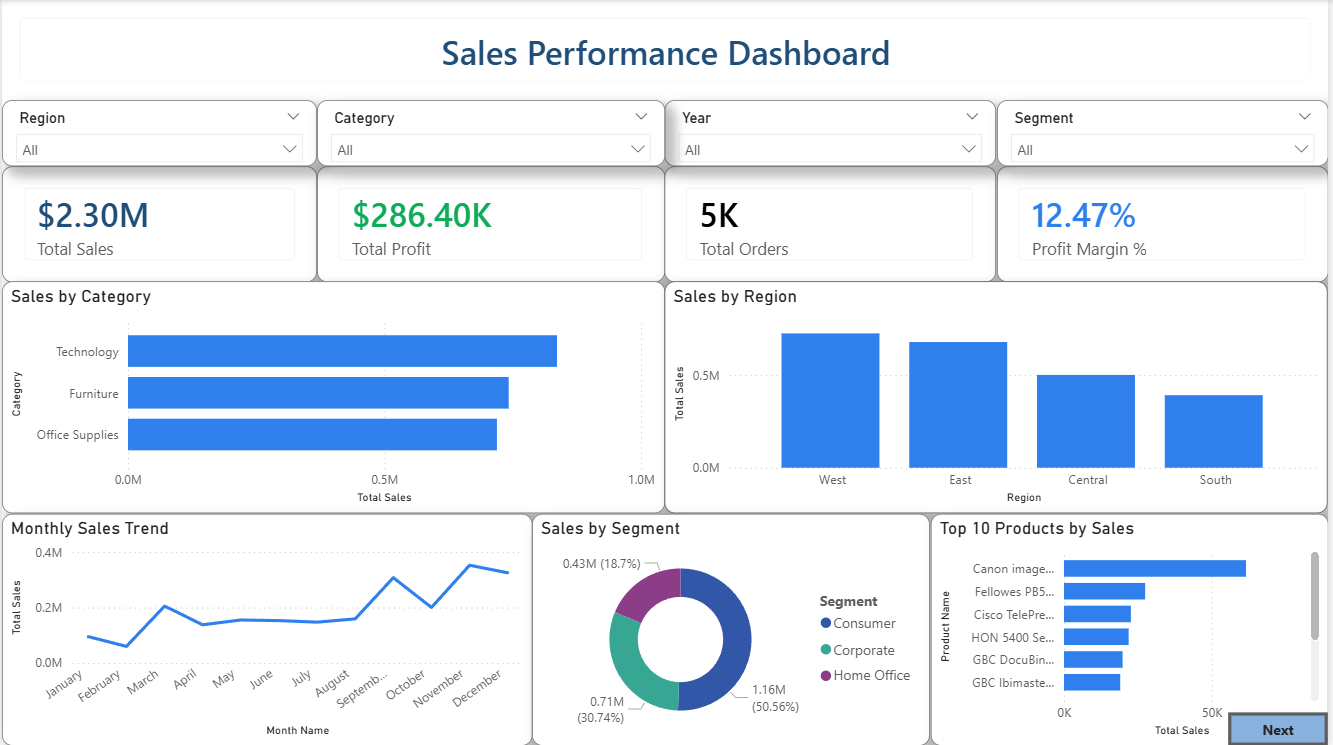

The page's visual inventory and layout, read from the dashboard file:
{"tool":"powerbi","page":{"name":"Sales Overview ","canvas":[1280,720],"ordinal":0},"visuals":[{"type":"cardVisual","title":"Total Sales","fields":{"Data":["Sales_Data.Total Sales"]},"box":[0,160,304,112],"z":0},{"type":"cardVisual","title":"Total Profit","fields":{"Data":["Sales_Data.Total Profit"]},"box":[304,160,336,112],"z":1000},{"type":"cardVisual","title":"Total Orders","fields":{"Data":["Sales_Data.Total Orders"]},"box":[640,160,320,112],"z":2000},{"type":"cardVisual","title":"Profit Margin %","fields":{"Data":["Sales_Data.Profit Margin %"]},"box":[960,160,320,112],"z":3000},{"type":"clusteredBarChart","title":"Sales by Category","fields":{"Category":["Sales_Data.Category"],"Y":["Sales_Data.Total Sales"]},"box":[0,272,640,224],"z":4000},{"type":"clusteredColumnChart","title":"Sales by Region","fields":{"Category":["Sales_Data.Region"],"Y":["Sales_Data.Total Sales"]},"box":[640,272,640,224],"z":5000},{"type":"lineChart","title":"Monthly Sales Trend","fields":{"Y":["Sales_Data.Total Sales"],"Category":["Date.Month Name"]},"box":[0,496,512,224],"z":6000},{"type":"donutChart","title":"Sales by Segment","fields":{"Category":["Sales_Data.Segment"],"Y":["Sales_Data.Total Sales"]},"box":[512,496,384,224],"z":7000},{"type":"clusteredBarChart","title":"Top 10 Products by Sales","fields":{"Category":["Sales_Data.Product Name"],"Y":["Sales_Data.Total Sales"]},"box":[896,496,384,224],"z":8000},{"type":"slicer","fields":{"Values":["Date.Year"]},"box":[640,96,320,64],"z":9000},{"type":"slicer","fields":{"Values":["Sales_Data.Region"]},"box":[0,96,304,64],"z":10000},{"type":"slicer","fields":{"Values":["Sales_Data.Category"]},"box":[304,96,336,64],"z":11000},{"type":"slicer","fields":{"Values":["Sales_Data.Segment"]},"box":[960,96,320,64],"z":12000},{"type":"cardVisual","fields":{"Data":["Date.Dashboard Title"]},"box":[0,0,1280,96],"z":13000},{"type":"actionButton","box":[1184,688,96,32],"z":14000}]}

Visuals, with their boxes in screenshot pixels (x1, y1, x2, y2), scaled from the page's 1280x720 canvas onto the 1333x745 screenshot:
"Total Sales" cardVisual: pyautogui.locateOnScreen(0, 166, 317, 281)
"Total Profit" cardVisual: pyautogui.locateOnScreen(317, 166, 666, 281)
"Total Orders" cardVisual: pyautogui.locateOnScreen(666, 166, 1000, 281)
"Profit Margin %" cardVisual: pyautogui.locateOnScreen(1000, 166, 1332, 281)
"Sales by Category" clusteredBarChart: pyautogui.locateOnScreen(0, 281, 666, 513)
"Sales by Region" clusteredColumnChart: pyautogui.locateOnScreen(666, 281, 1332, 513)
"Monthly Sales Trend" lineChart: pyautogui.locateOnScreen(0, 513, 533, 744)
"Sales by Segment" donutChart: pyautogui.locateOnScreen(533, 513, 933, 744)
"Top 10 Products by Sales" clusteredBarChart: pyautogui.locateOnScreen(933, 513, 1332, 744)
slicer - Date.Year: pyautogui.locateOnScreen(666, 99, 1000, 166)
slicer - Sales_Data.Region: pyautogui.locateOnScreen(0, 99, 317, 166)
slicer - Sales_Data.Category: pyautogui.locateOnScreen(317, 99, 666, 166)
slicer - Sales_Data.Segment: pyautogui.locateOnScreen(1000, 99, 1332, 166)
cardVisual - Date.Dashboard Title: pyautogui.locateOnScreen(0, 0, 1332, 99)
actionButton: pyautogui.locateOnScreen(1233, 712, 1332, 744)
